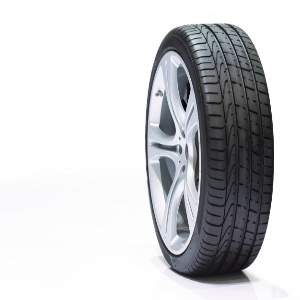tire: (146, 24, 270, 278)
